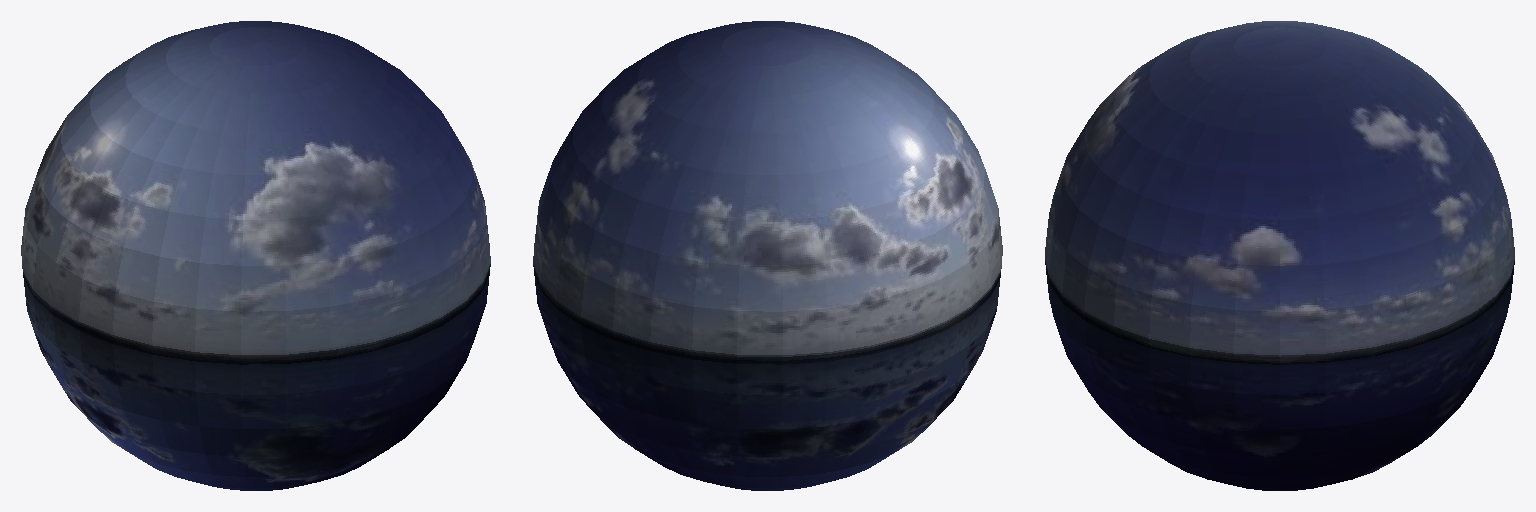
3 renders of one model, left to right at view 1: azimuth 30°, elevation 25°; view 2: azimuth 150°, elevation 25°; view 3: azimuth 270°, elevation 25°, orthographic.
Visible parts, largest first — view 1: 球; view 2: 球; view 3: 球.
Part boxes in pixels (left/top/right/bottom): 球: left=21, top=21, right=490, bottom=490; 球: left=533, top=21, right=1002, bottom=490; 球: left=1045, top=21, right=1514, bottom=490.
Size of the model in its own units: 2 by 2 by 2.
1 materials, 1 textured.